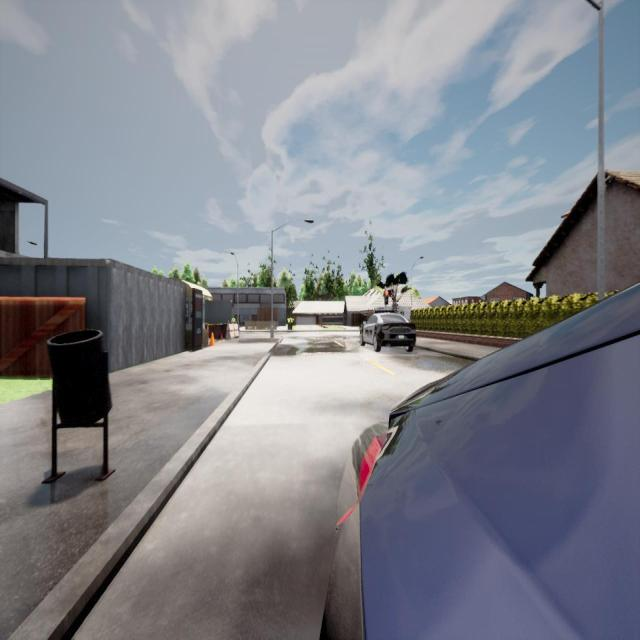Vehicle: (323, 283, 640, 639), (359, 310, 417, 352)
traffic_light: (384, 290, 389, 305)
